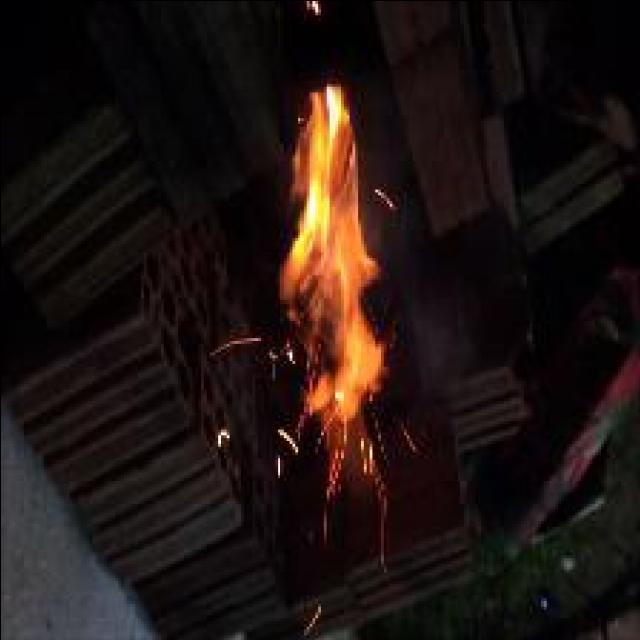Fire: (278, 85, 391, 498)
